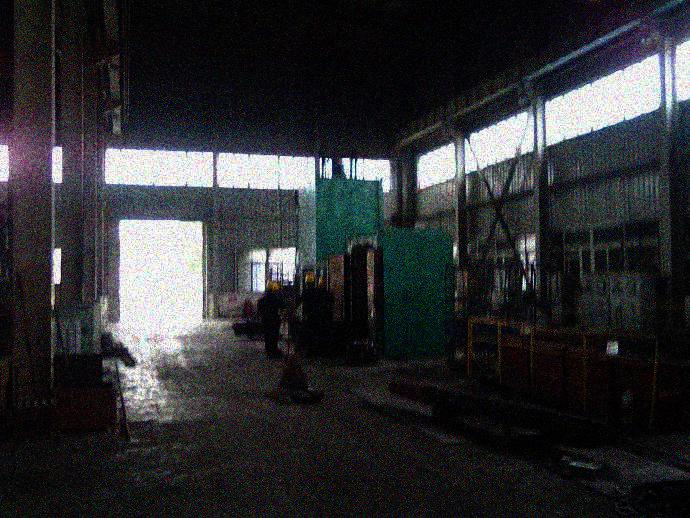helmet: (266, 279, 280, 296), (303, 270, 315, 288), (316, 277, 327, 291)
